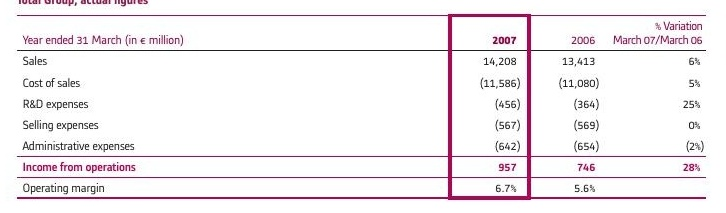table: (0, 0, 726, 213)
